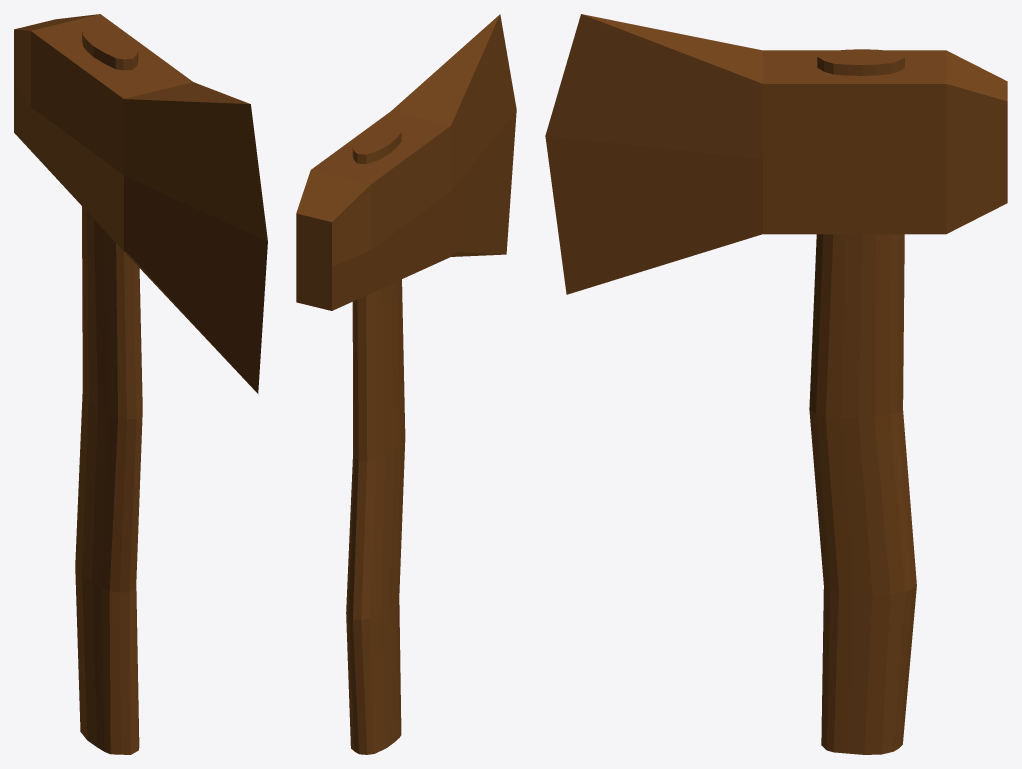
The model's file is wood_axe.glb.
The picture shows the model from 3 angles, left to right: view 1: azimuth 30°, elevation 25°; view 2: azimuth 150°, elevation 25°; view 3: azimuth 270°, elevation 25°; orthographic projection. The views are drawn at different scales.
Parts seen in each view (by area): view 1: Cube.001, Cube; view 2: Cube.001, Cube; view 3: Cube.001, Cube.
Boxes of the visible parts, x1,y1,x2,y2 form: Cube.001: [14, 14, 267, 393]; Cube: [75, 26, 142, 754]; Cube.001: [296, 14, 516, 310]; Cube: [346, 126, 405, 754]; Cube.001: [545, 14, 1007, 294]; Cube: [809, 49, 916, 754].
Bounding box in the file's own units: 0.536 × 5.45 × 3.12.
